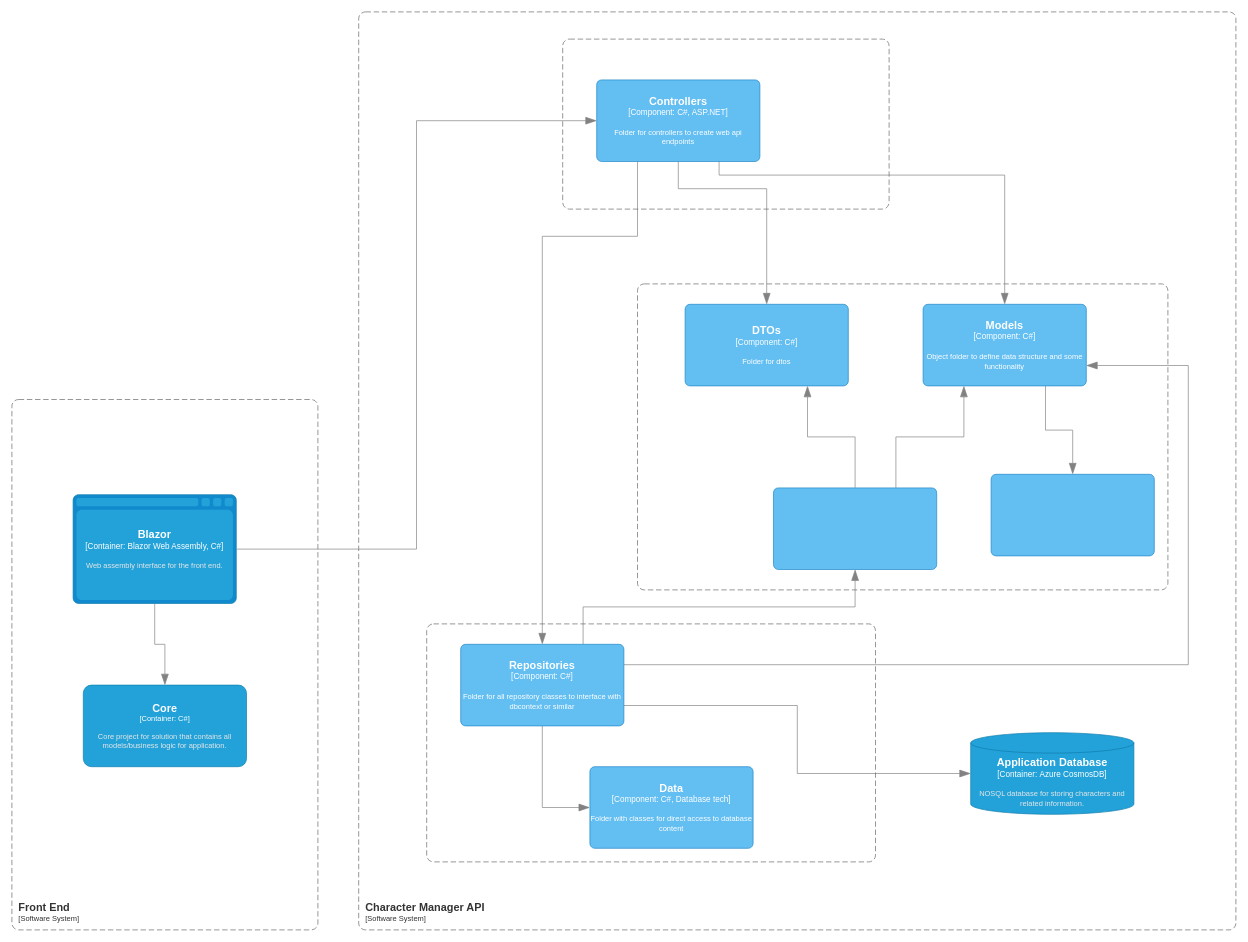
Some shapes in this 1248 by 942 pixel diagram are drawn without their labels. The box of each missing label's shape, as (x1, y1, x2, y2) in pixels:
API [Container]: (562, 38, 889, 209)
Core [Container]: (637, 283, 1168, 590)
Enums [Component: C#] Folder of enumerators for type safety: (990, 474, 1154, 556)
Infrastructure [Container]: (426, 623, 876, 862)
Interfaces [Component: C#] Folder for interfaces to be used with DI: (773, 487, 937, 570)
